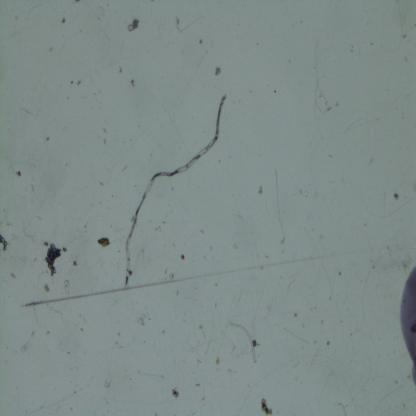Background material: (40, 240, 62, 276), (258, 397, 274, 415), (136, 310, 151, 328), (126, 15, 140, 34), (173, 13, 185, 31), (208, 352, 223, 365), (96, 235, 111, 248), (390, 186, 402, 202), (39, 281, 54, 293), (0, 233, 9, 252), (170, 385, 180, 401), (211, 66, 223, 78), (13, 166, 23, 180), (127, 75, 136, 89), (73, 78, 83, 90), (72, 257, 80, 269), (60, 14, 68, 26), (196, 35, 204, 46), (255, 184, 262, 196), (61, 246, 69, 254), (179, 252, 186, 260)
Cotton: (124, 94, 227, 290)
Glass filter fibre: (20, 252, 334, 306), (310, 43, 334, 115), (230, 322, 257, 364), (273, 168, 285, 244), (20, 338, 30, 354), (63, 279, 70, 296)
Pen: (399, 265, 416, 384)
